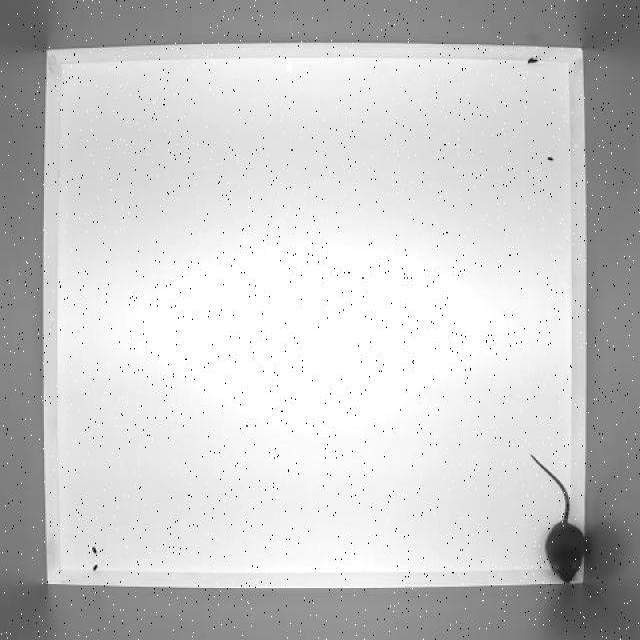rat: (518, 448, 590, 588)
